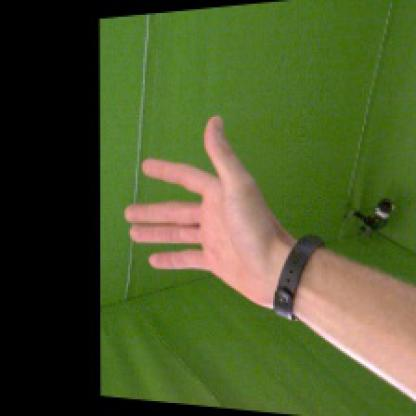Hand: (126, 115, 290, 312)
